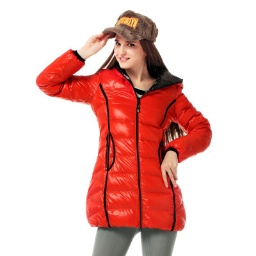face: (97, 22, 186, 93)
